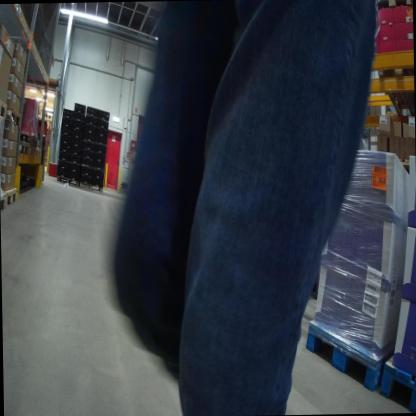pallet: (302, 307, 399, 393), (374, 54, 413, 126), (376, 346, 416, 410), (371, 0, 410, 14), (79, 174, 103, 195), (5, 105, 24, 130), (5, 180, 20, 206), (56, 175, 79, 189), (0, 92, 10, 122), (16, 139, 29, 154), (0, 188, 8, 211), (30, 133, 40, 149), (26, 144, 37, 158), (18, 131, 29, 143), (35, 146, 43, 156)
